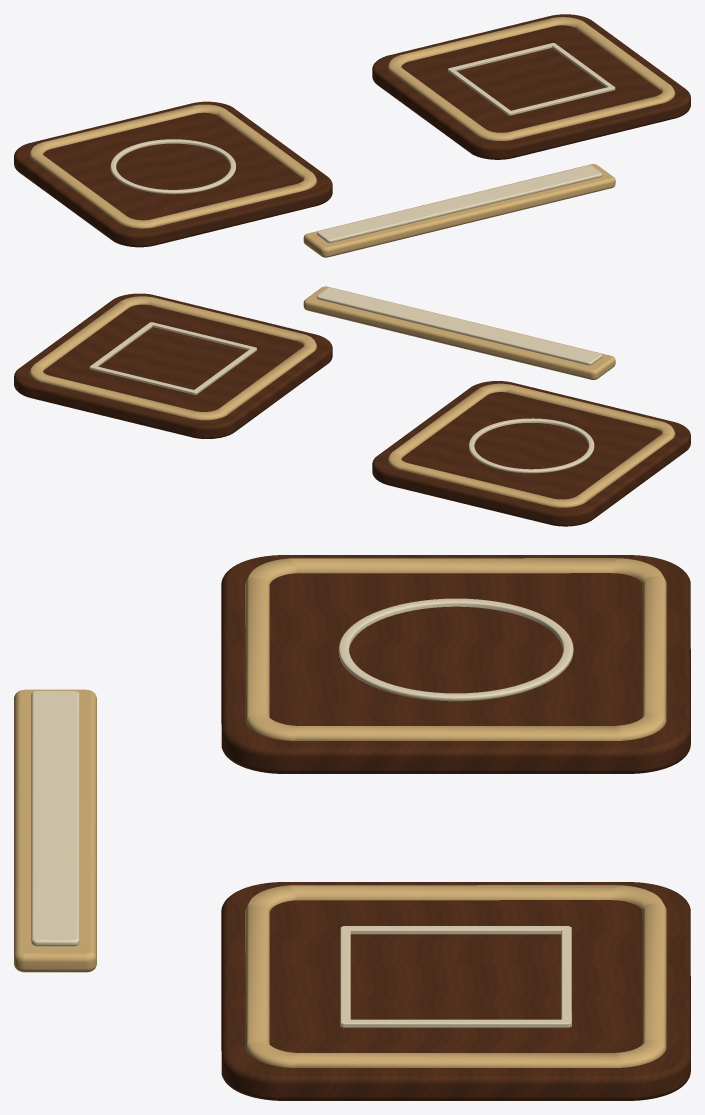
Rendered from cargo_art_09_floor_marks.glb.
3 views of the same model, one above another, from view 1: azimuth 30°, elevation 25°; view 2: azimuth 150°, elevation 25°; view 3: azimuth 270°, elevation 25° (orthographic). The views are drawn at different scales.
Parts seen in each view (by area): view 1: circle_wood, square_wood, circle_rim, square_rim, stop_line_brass, stop_line_ivory, circle_symbol, square_z0.016, square_z-0.016, square_x-0.016, square_x0.016; view 2: circle_wood, square_wood, circle_rim, square_rim, stop_line_brass, stop_line_ivory, circle_symbol, square_z-0.016, square_z0.016, square_x-0.016, square_x0.016; view 3: circle_wood, square_wood, circle_rim, square_rim, stop_line_ivory, stop_line_brass, circle_symbol, square_x0.016, square_x-0.016, square_z-0.016, square_z0.016.
Part boxes in pixels (box(x1,y1,x2,y2)): circle_wood: box(14, 101, 332, 247); square_wood: box(372, 14, 690, 159); circle_rim: box(29, 104, 316, 228); square_rim: box(388, 17, 675, 140); stop_line_brass: box(303, 164, 615, 257); stop_line_ivory: box(317, 165, 602, 242); circle_symbol: box(110, 139, 235, 194); square_z0.016: box(509, 86, 614, 115); square_z-0.016: box(448, 43, 554, 70); square_x-0.016: box(448, 68, 510, 115); square_x0.016: box(551, 43, 615, 89); circle_wood: box(372, 381, 690, 526); square_wood: box(14, 293, 332, 438); circle_rim: box(388, 383, 675, 507); square_rim: box(29, 296, 316, 420); stop_line_brass: box(303, 286, 615, 379); stop_line_ivory: box(317, 287, 602, 365); circle_symbol: box(469, 418, 594, 473); square_z-0.016: box(90, 365, 195, 394); square_z0.016: box(150, 322, 256, 350); square_x-0.016: box(194, 347, 256, 394); square_x0.016: box(89, 322, 153, 368); circle_wood: box(221, 555, 690, 773); square_wood: box(221, 882, 690, 1100); circle_rim: box(245, 558, 666, 740); square_rim: box(245, 885, 666, 1067); stop_line_ivory: box(31, 691, 79, 946); stop_line_brass: box(14, 689, 96, 972); circle_symbol: box(338, 598, 573, 701); square_x0.016: box(342, 1019, 569, 1027); square_x-0.016: box(342, 926, 569, 934); square_z-0.016: box(561, 926, 571, 1026); square_z0.016: box(340, 926, 350, 1026).
Size of the model in its own units: 0.18 by 0.005 by 0.098.
Materials: 3 (1 with a texture image).
